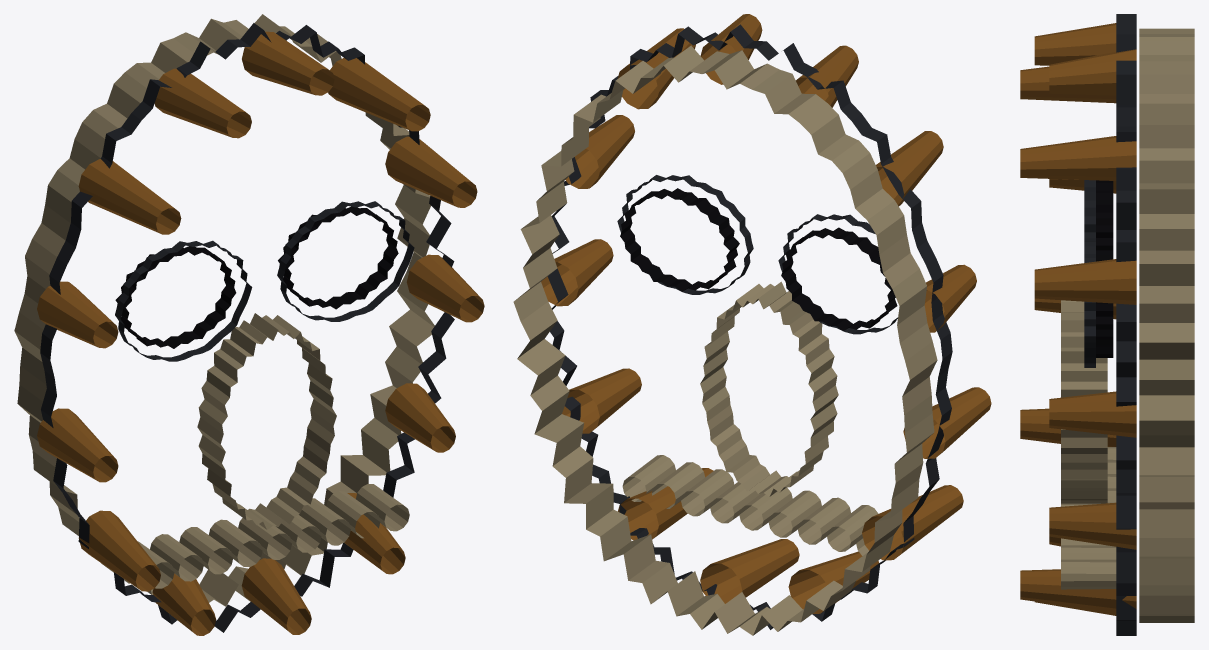
The model's file is B3DeathMask.obj.
3 views of the same model, side by side, from view 1: azimuth 30°, elevation 25°; view 2: azimuth 150°, elevation 25°; view 3: azimuth 270°, elevation 25° (orthographic).
Size of the model in its own units: 0.8132 by 1.12 by 0.3.
